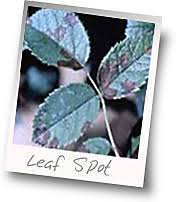Diseased_Leaves: (54, 12, 78, 37), (32, 127, 58, 147), (57, 54, 84, 70), (103, 54, 113, 91)
